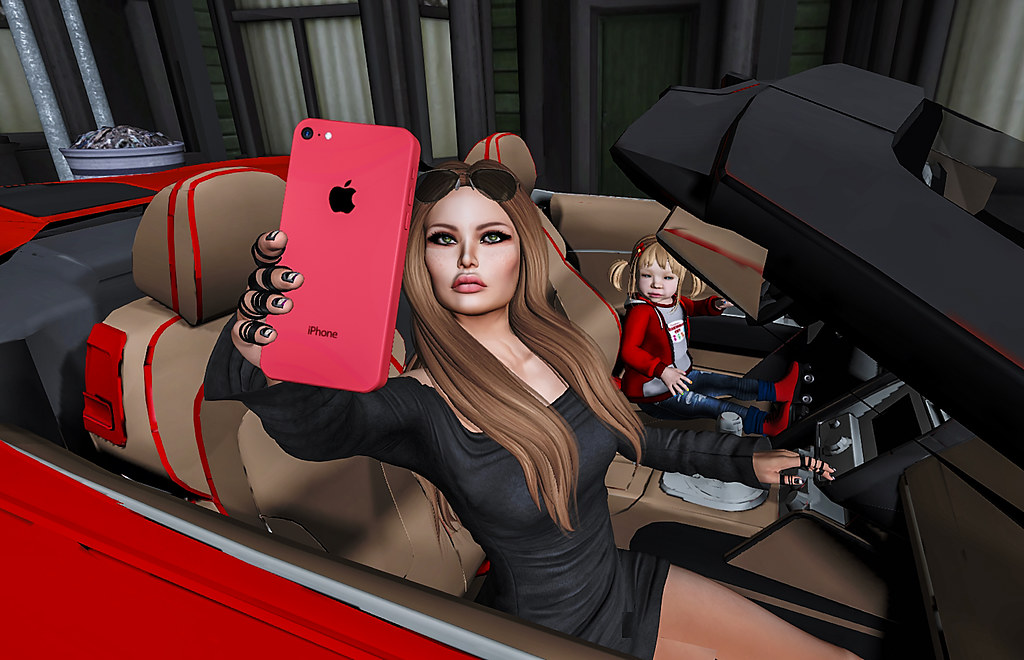person: (407, 53, 629, 660)
